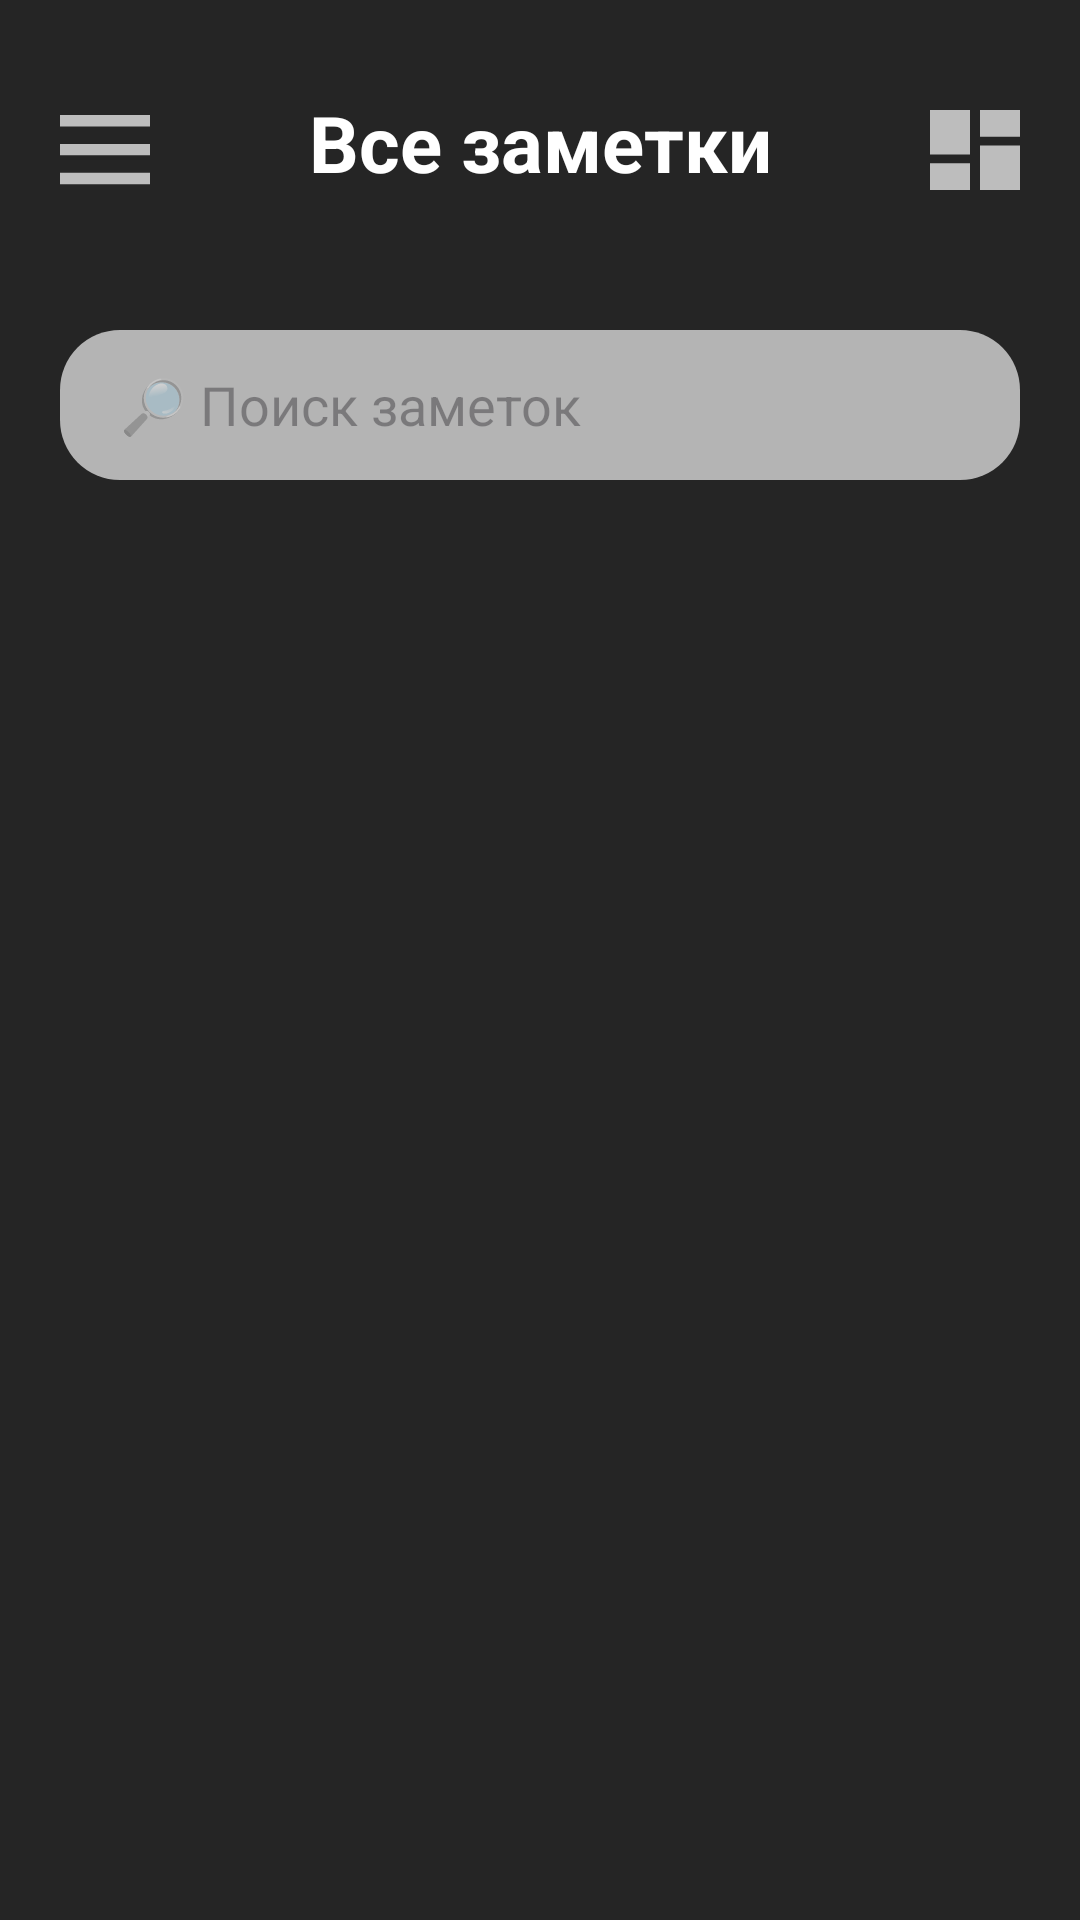

Icon click points for this 1080*1920 phone screenshot, format point (x, y):
menu: point (105, 150)
